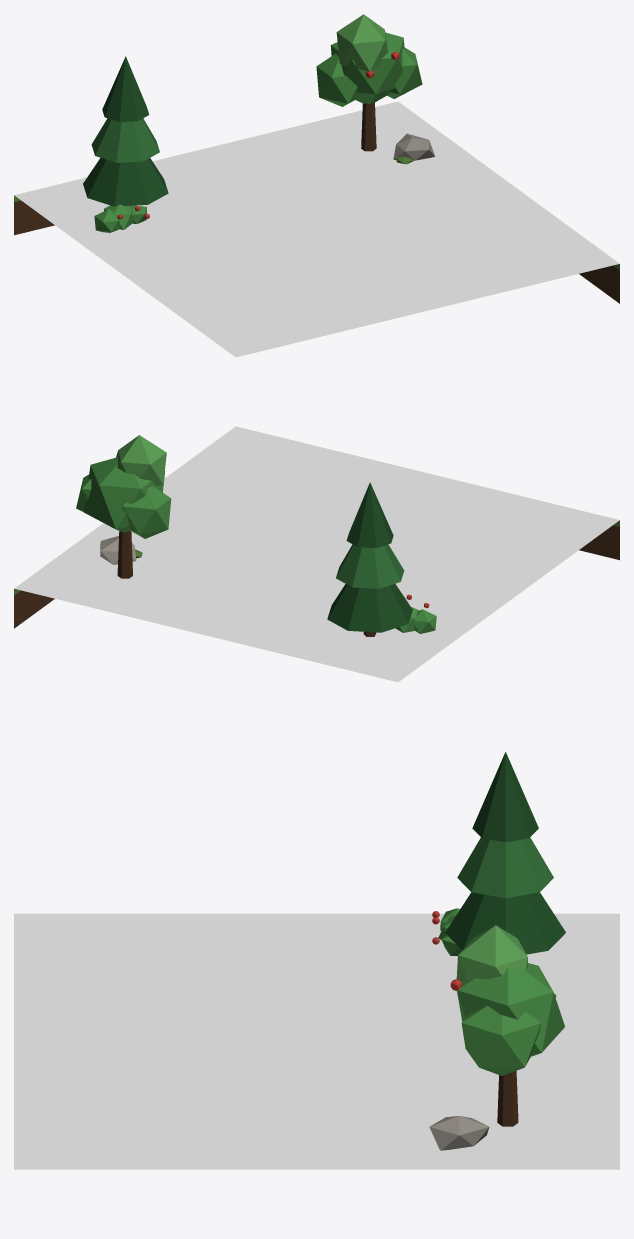
3 renders of one model, top to bottom at view 1: azimuth 30°, elevation 25°; view 2: azimuth 150°, elevation 25°; view 3: azimuth 270°, elevation 25°, orthographic. The views are drawn at different scales.
Visible parts, largest first — view 1: r3; view 2: r3; view 3: r3.
Boxes of the visible parts, x1,y1,x2,y2 form: r3: (14, 14, 619, 357); r3: (14, 426, 619, 682); r3: (14, 752, 619, 1169).
Bounding box in the file's own units: 2 × 0.96 × 2.
